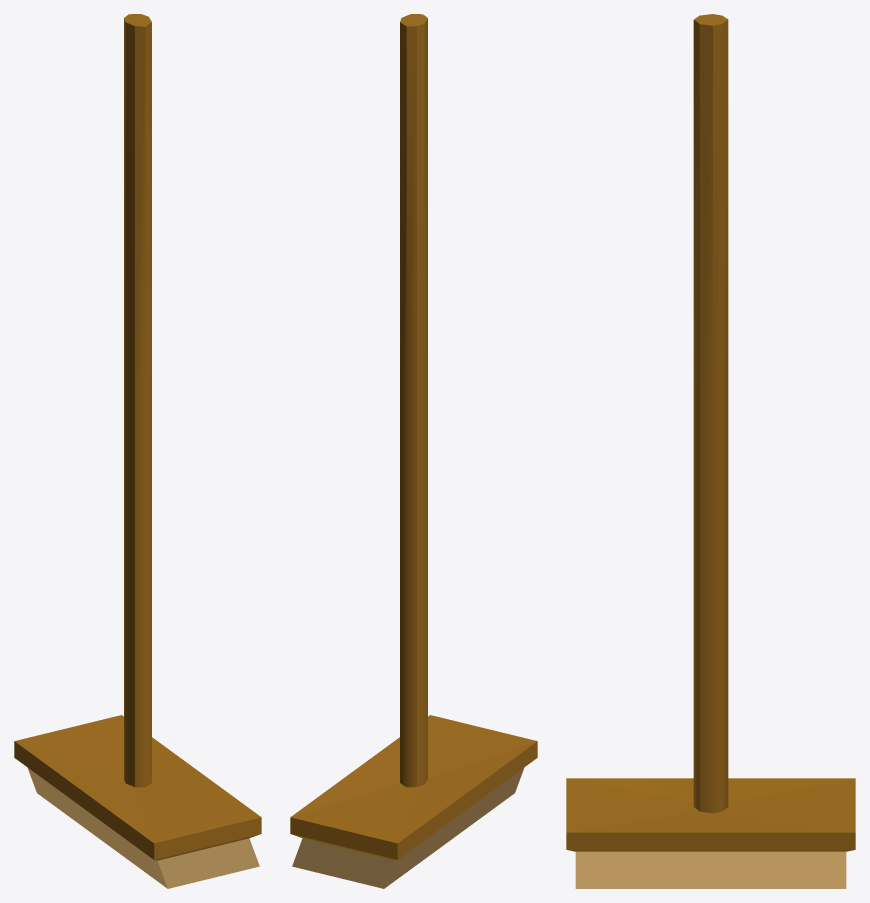
Rendered from Broom.fbx.
3 views of the same model, side by side, from view 1: azimuth 30°, elevation 25°; view 2: azimuth 150°, elevation 25°; view 3: azimuth 270°, elevation 25° (orthographic). The views are drawn at different scales.
Visible parts, largest first — view 1: Broom; view 2: Broom; view 3: Broom.
Part boxes in pixels (x1,y1,x2,y2): Broom: (14, 14, 261, 888); Broom: (290, 14, 537, 888); Broom: (566, 14, 855, 888).
Bounding box in the file's own units: 7.17 × 50.51 × 15.76.
1 material, 1 textured.
